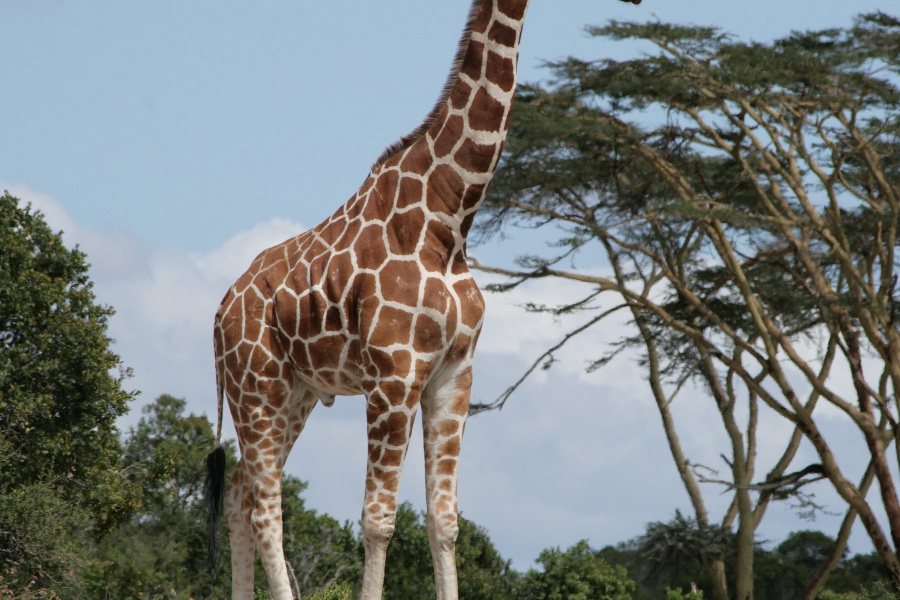giraffe: (184, 0, 577, 599)
